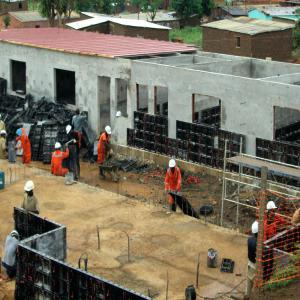white: (25, 181, 35, 197), (252, 223, 262, 238), (267, 202, 276, 216), (12, 230, 20, 243), (169, 160, 177, 172), (67, 126, 74, 136), (106, 126, 112, 137), (56, 143, 62, 152), (2, 131, 8, 139)
